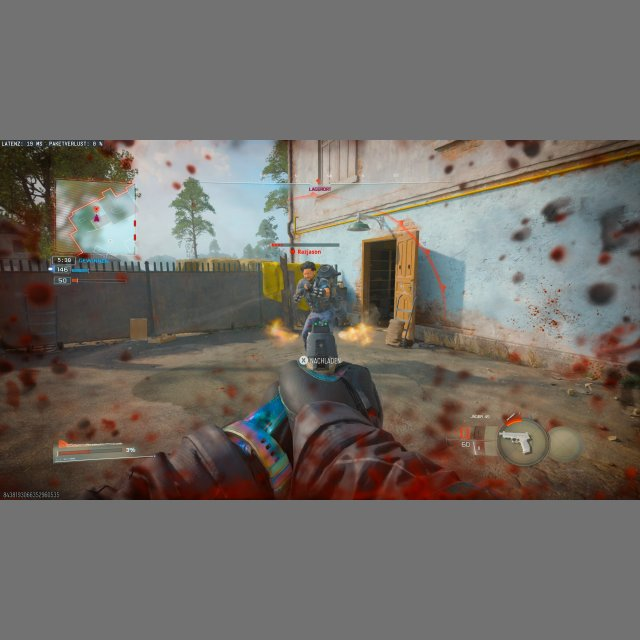head: (301, 260, 318, 279)
player: (293, 260, 348, 345)
